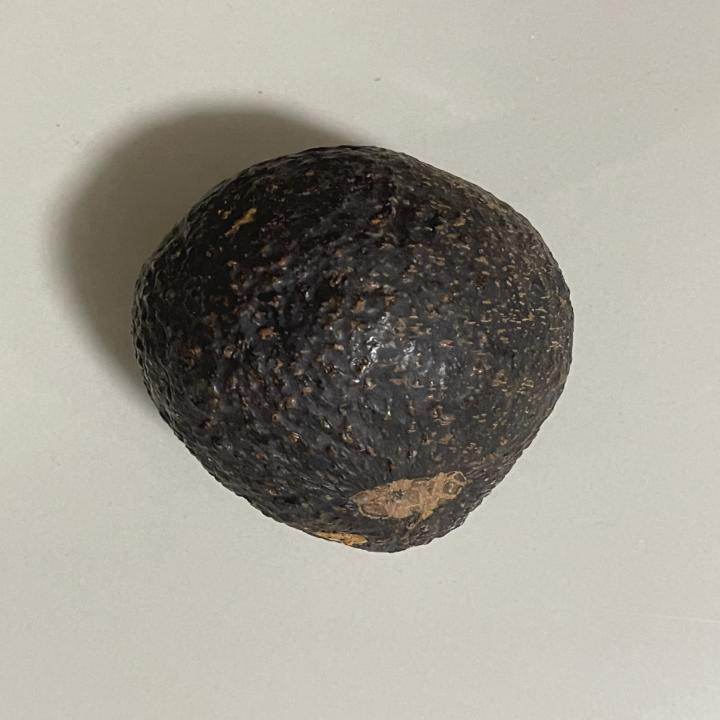Level2: (119, 139, 581, 563)
